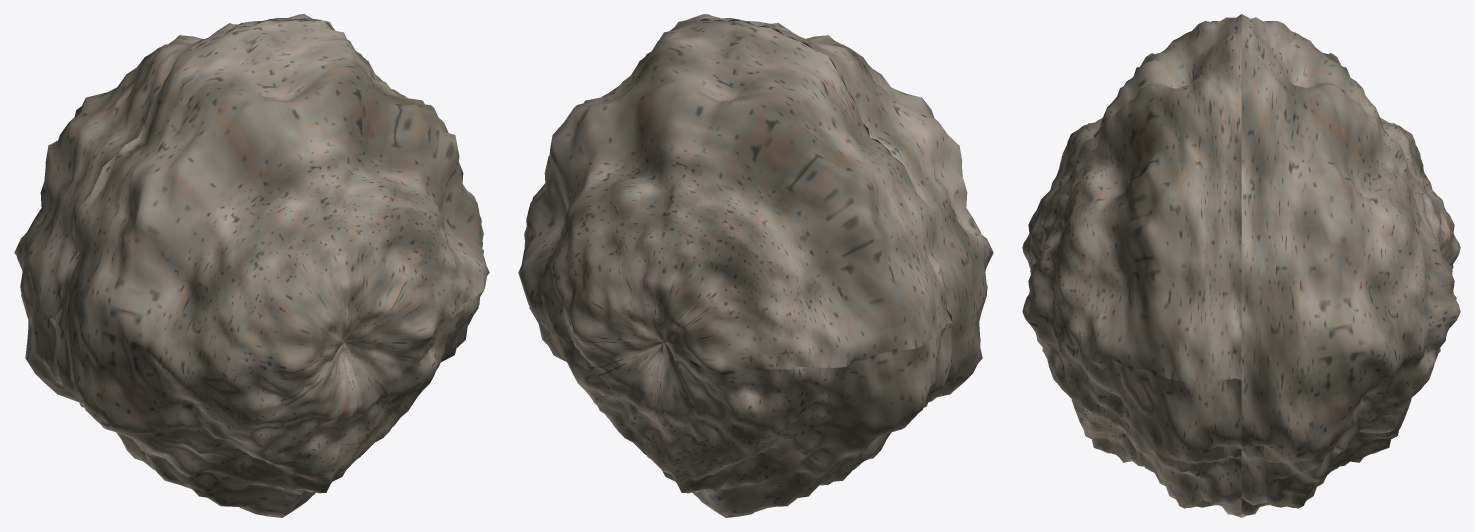
File: botryoidal-chalcedony-study-v2.glb
3 views of the same model, side by side, from view 1: azimuth 30°, elevation 25°; view 2: azimuth 150°, elevation 25°; view 3: azimuth 270°, elevation 25° (orthographic).
Visible parts, largest first — view 1: Closed_front, Closed_back; view 2: Closed_back, Closed_front; view 3: Closed_front, Closed_back.
Boxes of the visible parts, bbox=[...] form: Closed_front: bbox=[55, 20, 489, 517]; Closed_back: bbox=[14, 14, 383, 469]; Closed_back: bbox=[518, 20, 952, 517]; Closed_front: bbox=[613, 14, 993, 469]; Closed_front: bbox=[1022, 14, 1241, 517]; Closed_back: bbox=[1241, 14, 1460, 517].
Size of the model in its own units: 3.02 by 3.48 by 2.86.
9 materials, 4 textured.
